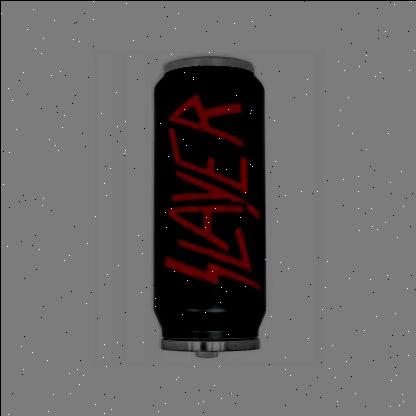Can: (150, 56, 266, 358)
